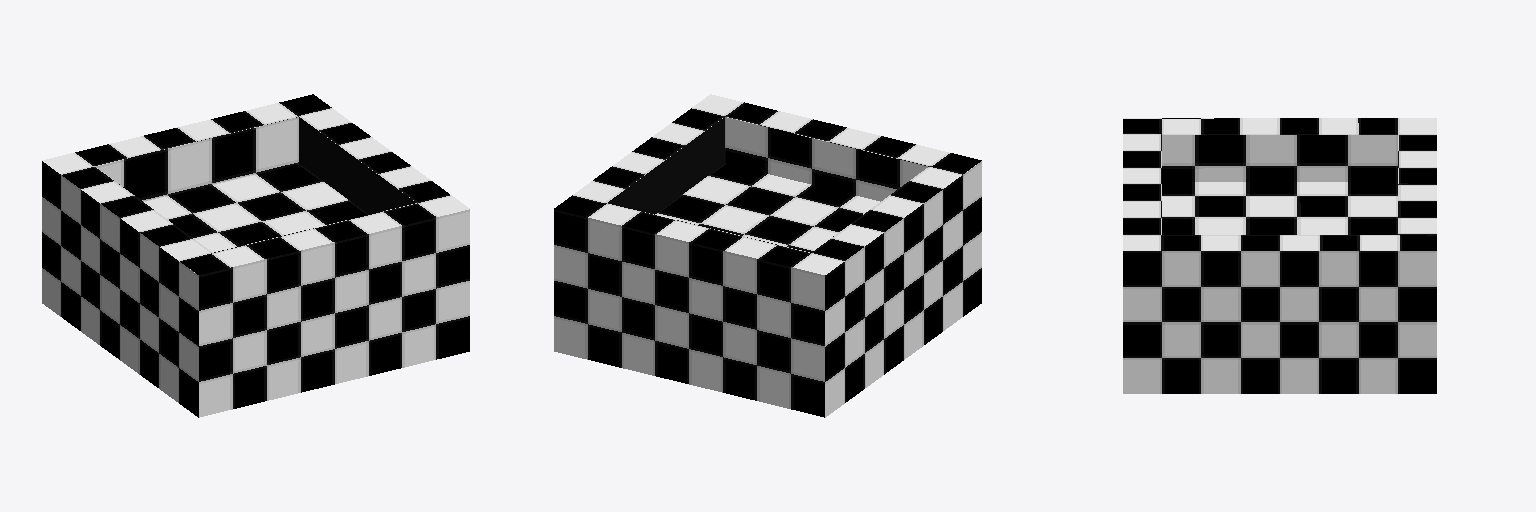
The picture shows the model from 3 angles: view 1: azimuth 30°, elevation 25°; view 2: azimuth 150°, elevation 25°; view 3: azimuth 270°, elevation 25°; orthographic projection.
Visible parts, largest first — view 1: cube1; view 2: cube1; view 3: cube1.
Boxes of the visible parts, x1=… form: cube1: x1=42, y1=94, x2=469, y2=417; cube1: x1=554, y1=94, x2=981, y2=417; cube1: x1=1123, y1=118, x2=1436, y2=393.
Size of the model in its own units: 1 by 0.5 by 1.
1 materials, 1 textured.